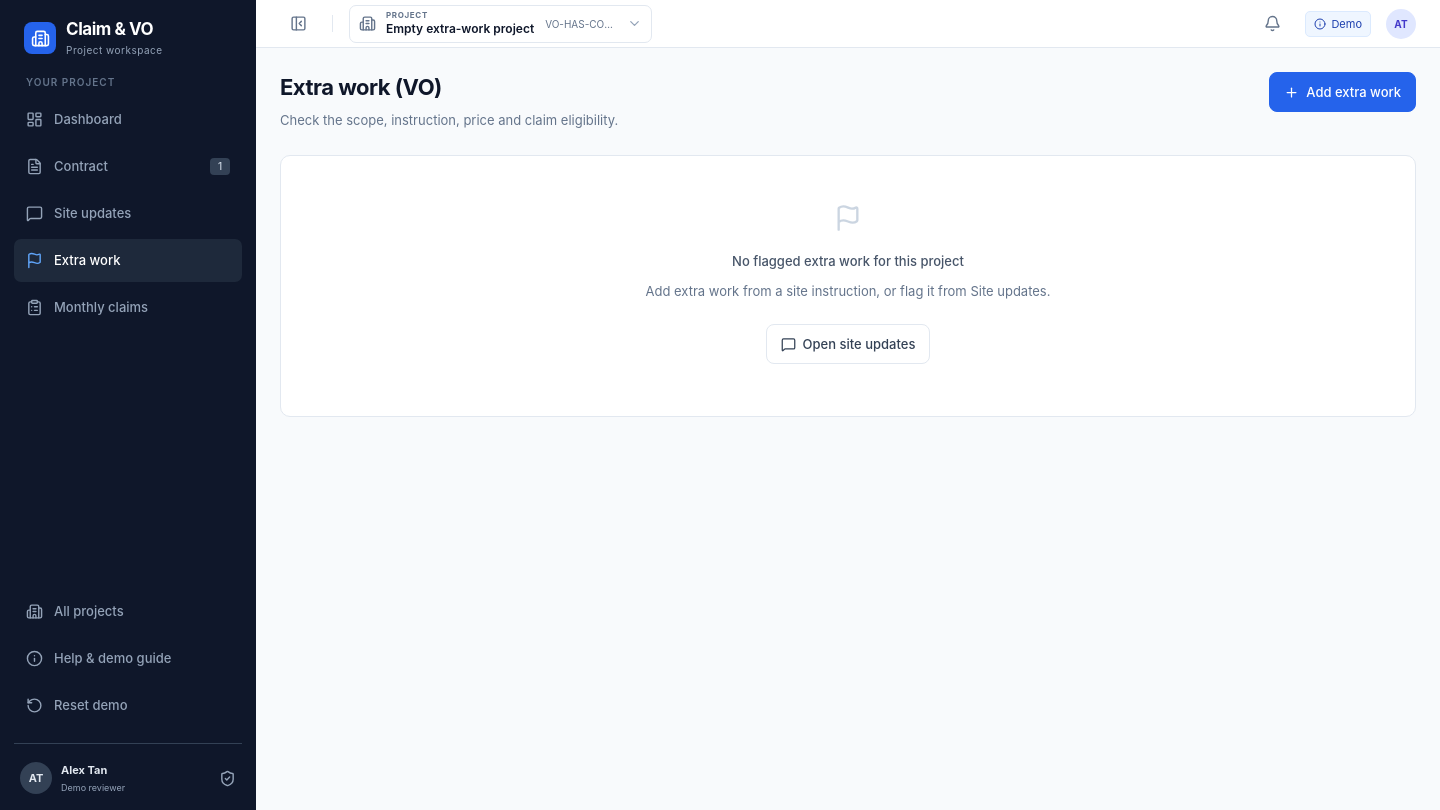
it: workflow navigation cleanup › offers a useful first action for an empty VO register with contract items=true
expect the heading "No flagged extra work for this project" is shown: met, box [732, 253, 964, 269]
Step 1. Click the button "Open site updates" → [848, 344], box [766, 324, 930, 364]
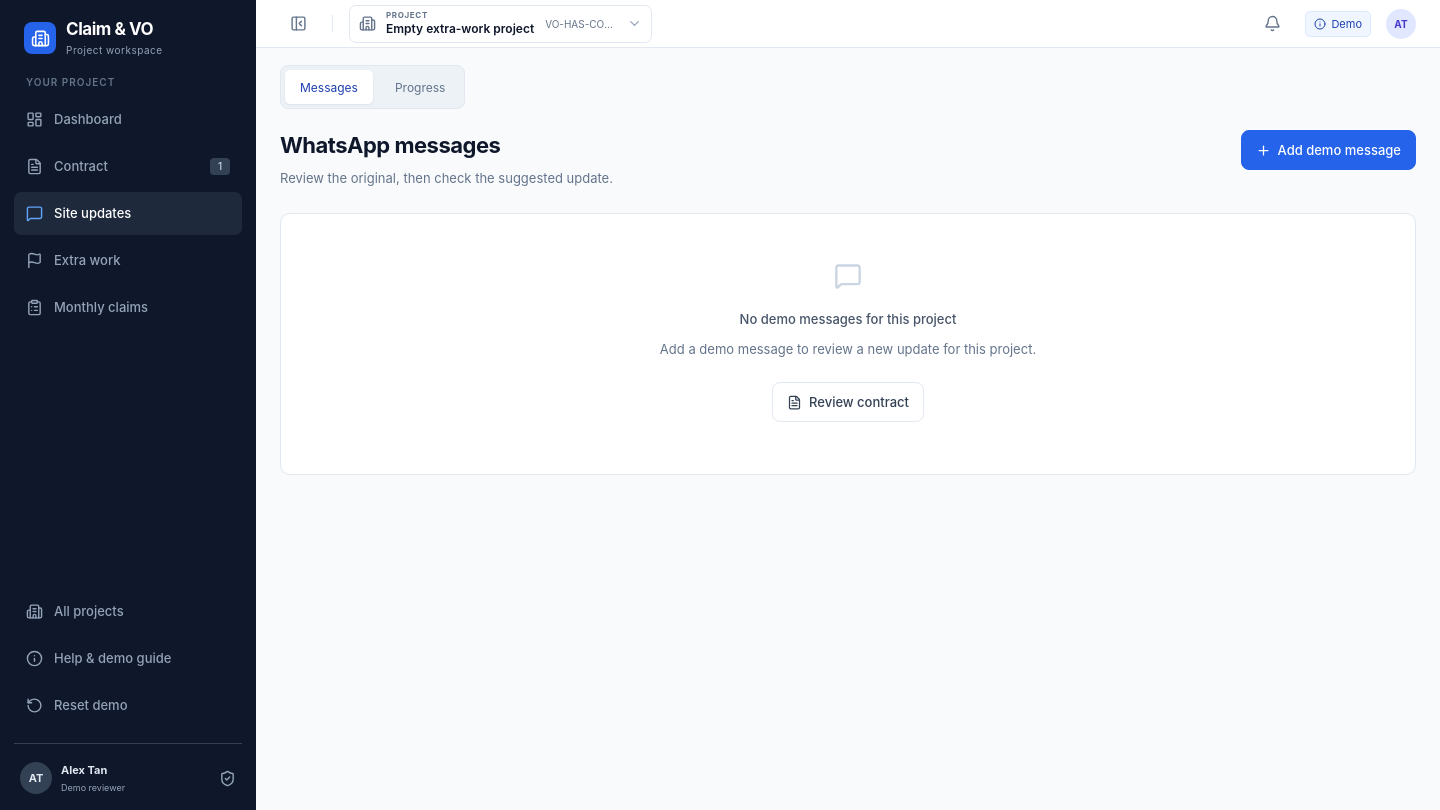
expect the heading "WhatsApp messages" is shown: met, box [280, 132, 500, 158]
